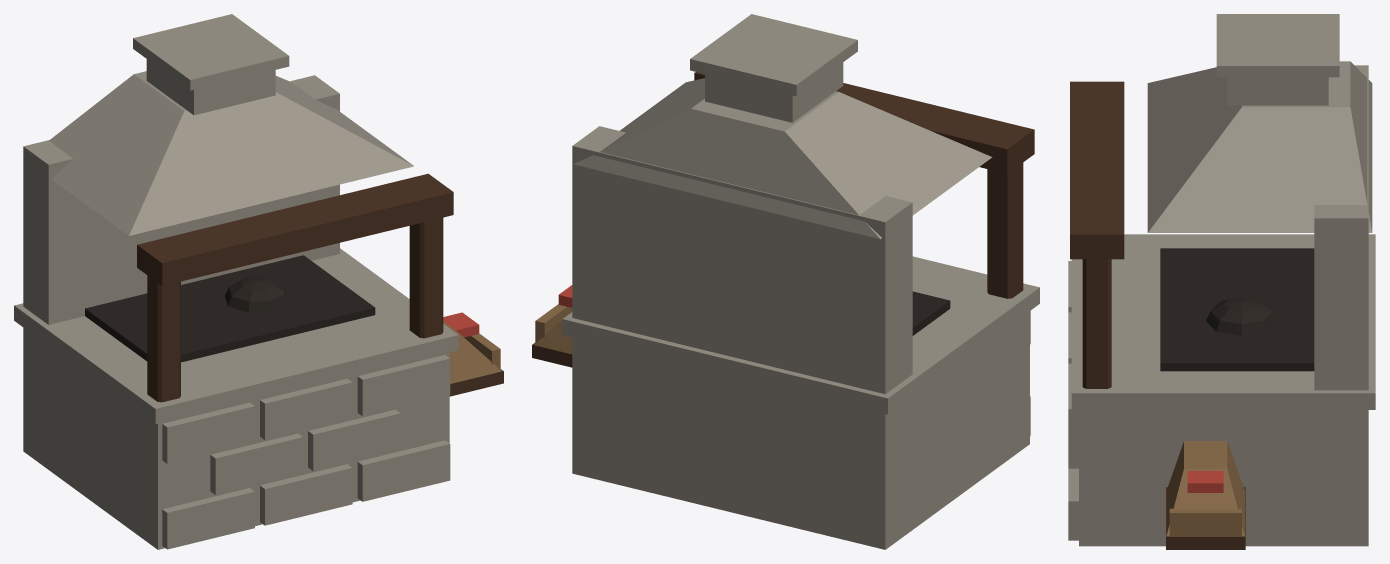
File: forge_lod0.glb
3 renders of one model, left to right at view 1: azimuth 30°, elevation 25°; view 2: azimuth 150°, elevation 25°; view 3: azimuth 270°, elevation 25°, orthographic. The views are drawn at different scales.
Visible parts, largest first — view 1: forge; view 2: forge; view 3: forge.
Part boxes in pixels (box(x1,y1,x2,y2)): forge: box(14, 14, 503, 549); forge: box(532, 14, 1039, 549); forge: box(1068, 14, 1375, 549).
Bounding box in the file's own units: 2.69 × 2.62 × 1.7.
